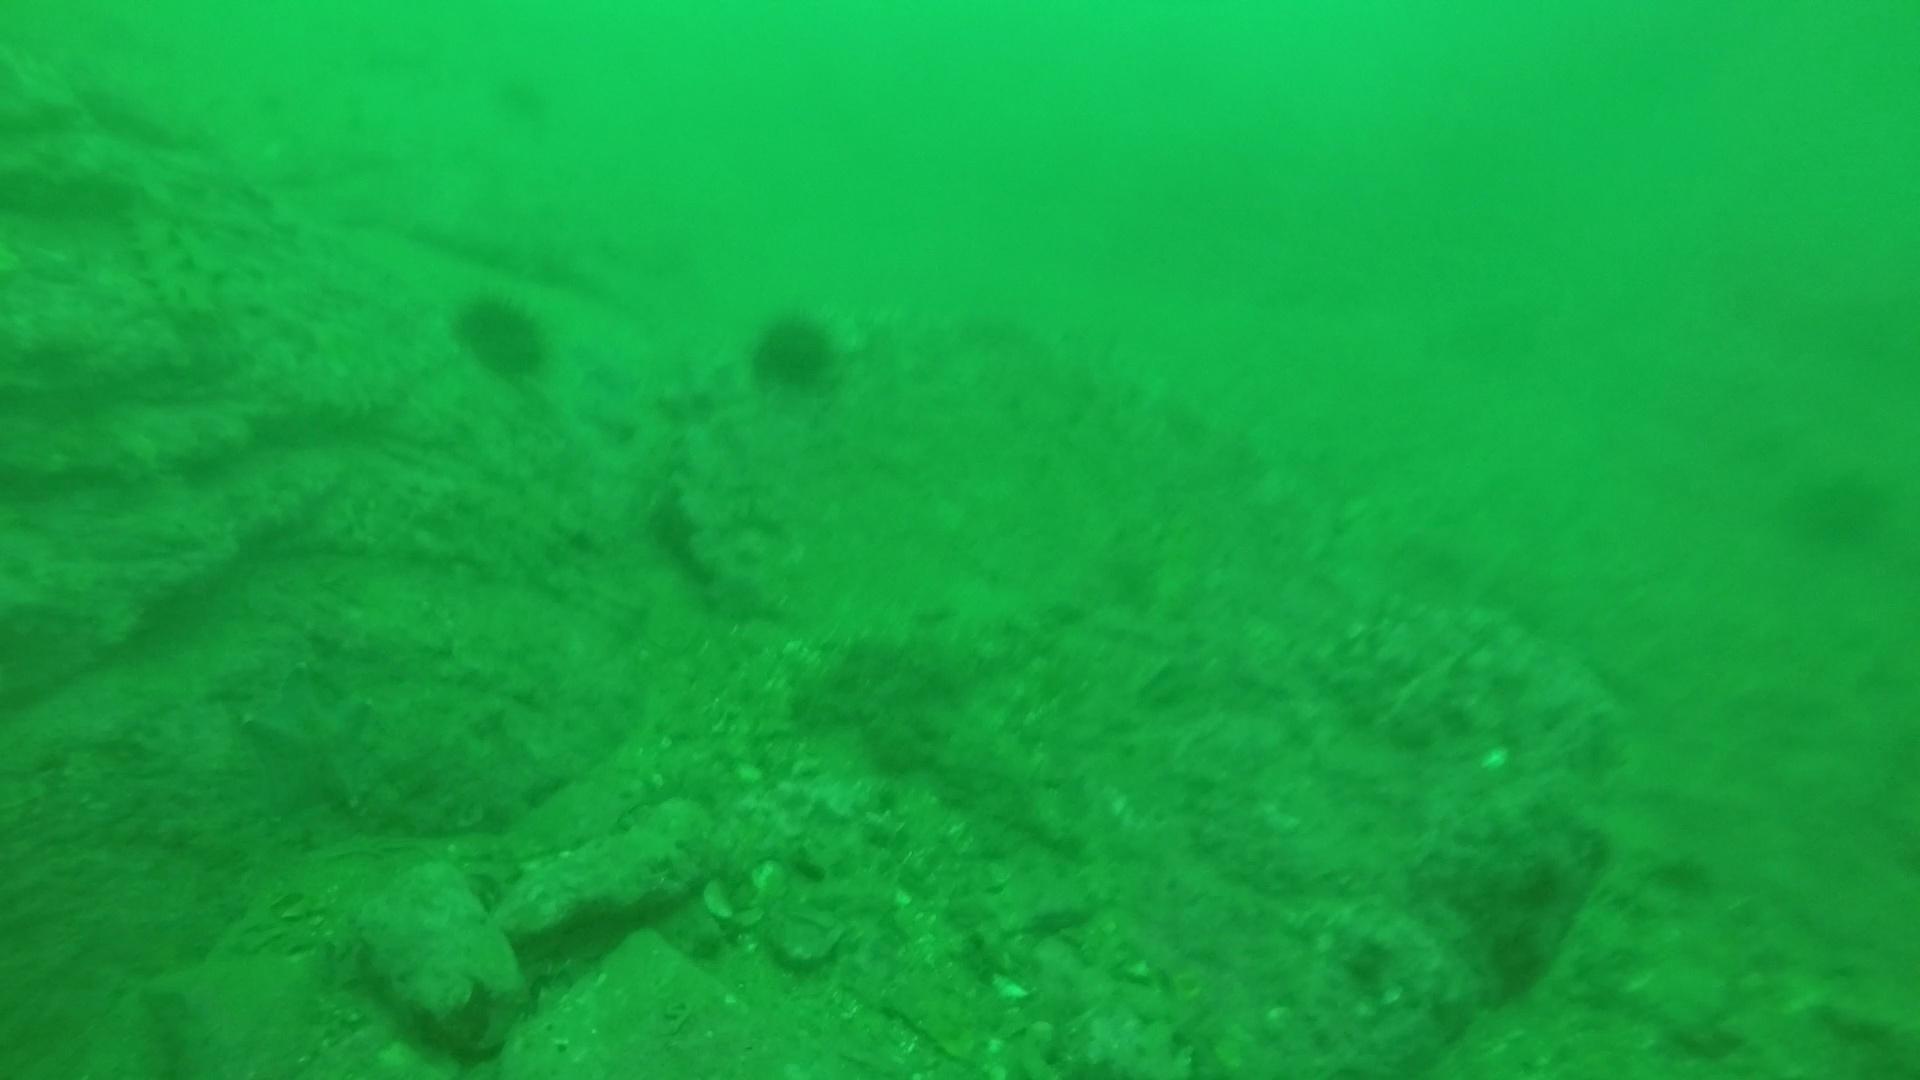echinus: (1780, 458, 1894, 553), (447, 285, 555, 382), (745, 305, 844, 396), (487, 62, 558, 127)
starfish: (233, 666, 385, 825)
